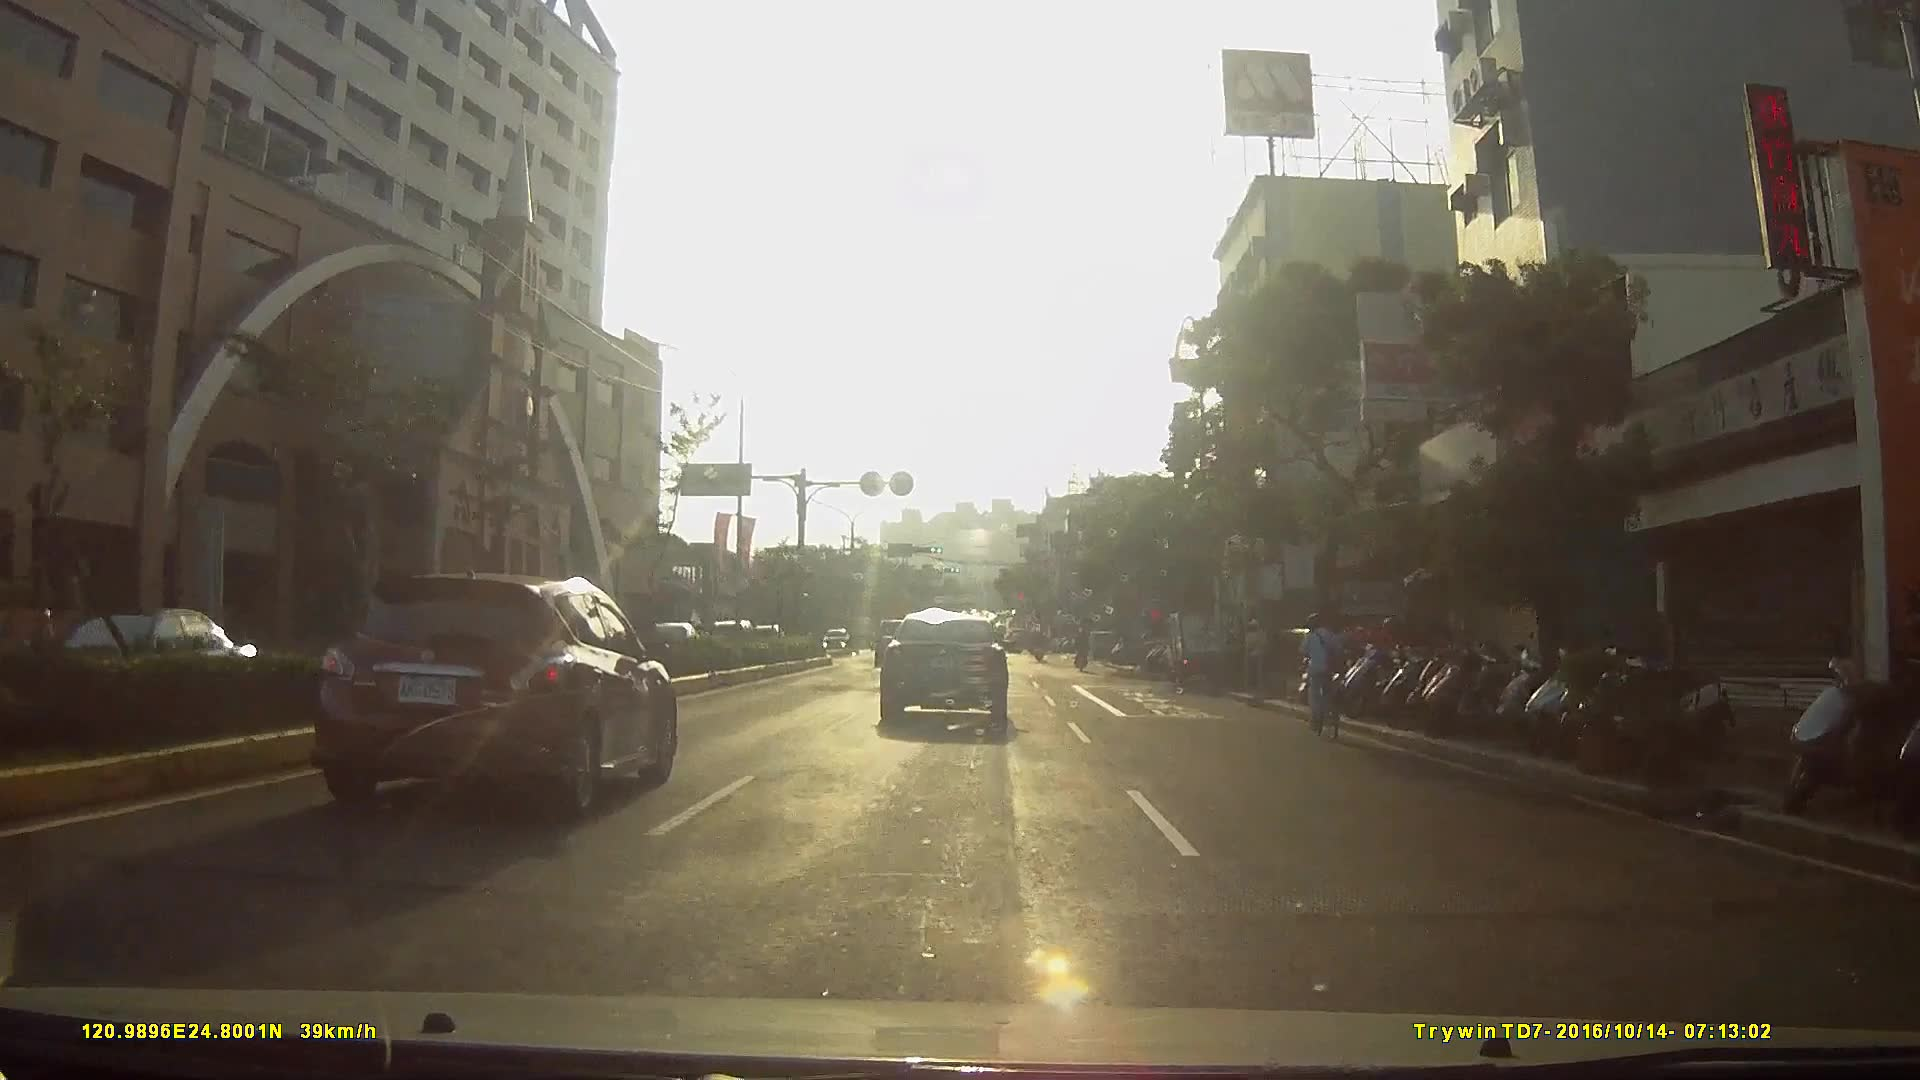pedestrian: (1245, 615, 1277, 699)
rider: (1294, 613, 1352, 743)
vehicle: (306, 566, 692, 819), (874, 609, 1020, 740), (1164, 604, 1244, 688), (763, 607, 822, 662)
